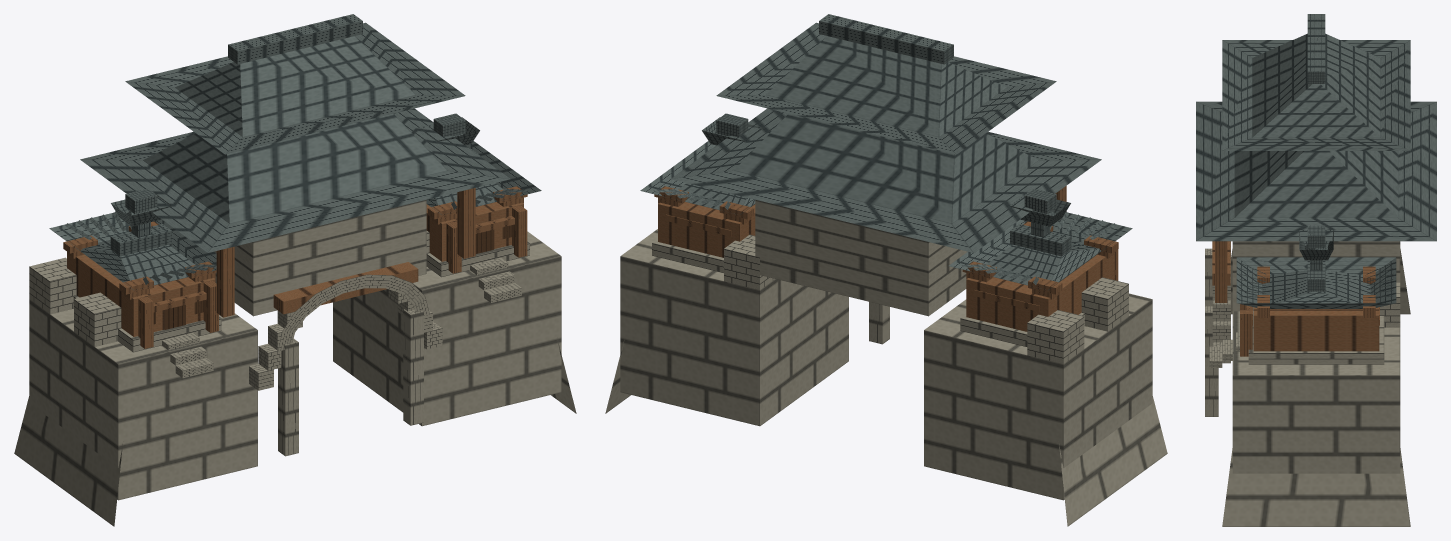
The model's file is gate-lod0.glb.
3 renders of one model, left to right at view 1: azimuth 30°, elevation 25°; view 2: azimuth 150°, elevation 25°; view 3: azimuth 270°, elevation 25°, orthographic. The views are drawn at different scales.
Bounding box in the file's own units: 0.96 × 0.796 × 0.46.
Materials: 1 (1 with a texture image).
